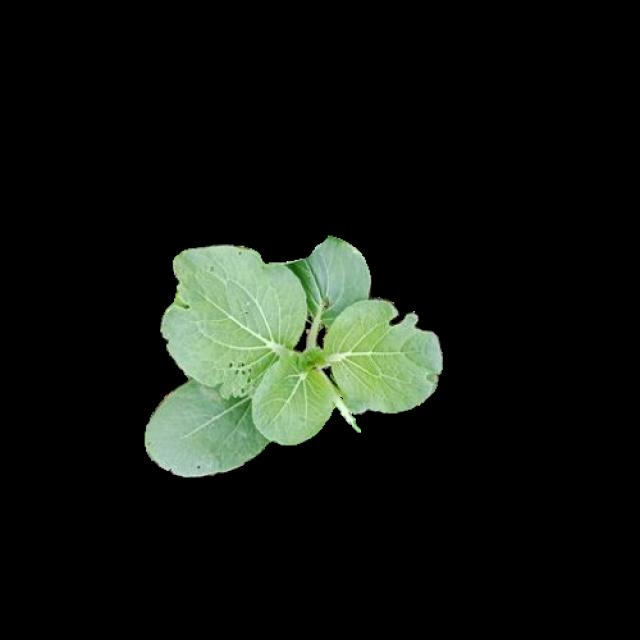not-mature: (146, 236, 440, 476)
unhealthy: (163, 247, 307, 405), (328, 297, 439, 415)
